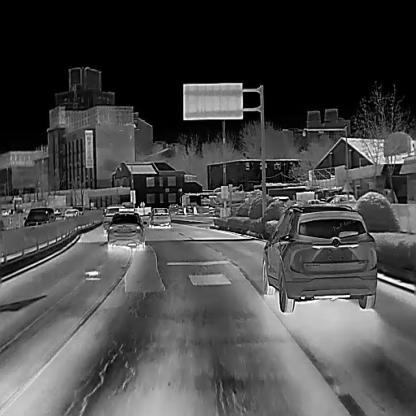car: (261, 204, 377, 312), (107, 212, 145, 249), (23, 207, 55, 228), (103, 204, 127, 231), (149, 206, 170, 226), (64, 208, 78, 219), (12, 196, 22, 208)
